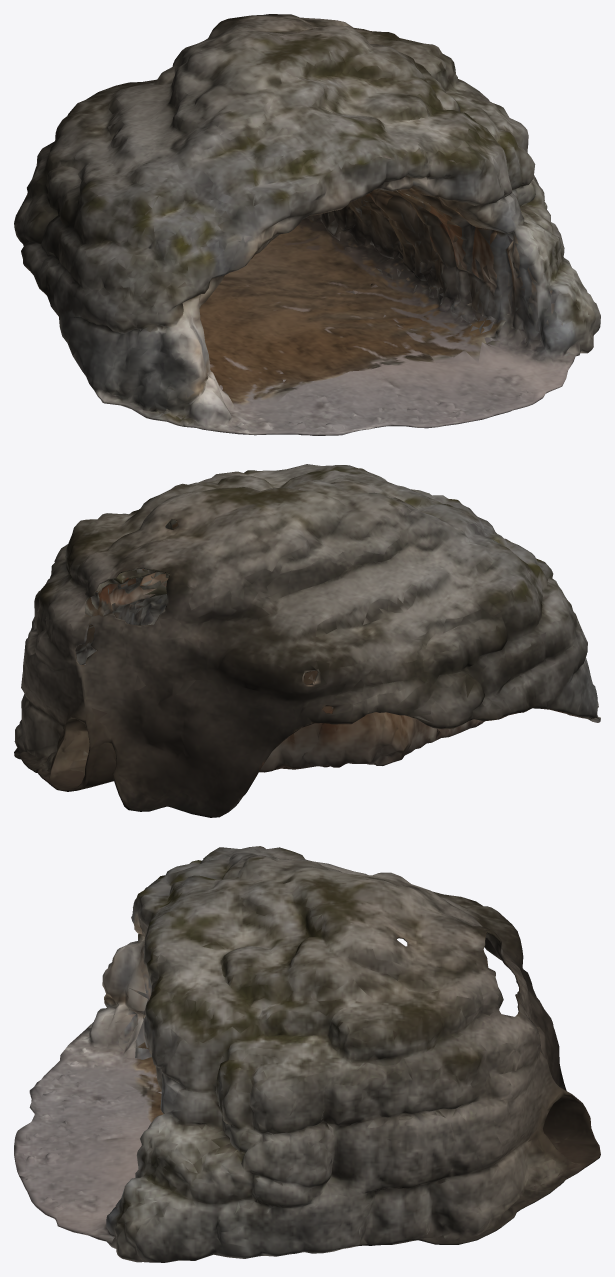
The picture shows the model from 3 angles, top to bottom: view 1: azimuth 30°, elevation 25°; view 2: azimuth 150°, elevation 25°; view 3: azimuth 270°, elevation 25°; orthographic projection. The views are drawn at different scales.
Parts seen in each view (by area): view 1: Mesh_0; view 2: Mesh_0; view 3: Mesh_0.
Boxes of the visible parts, x1,y1,x2,y2 form: Mesh_0: (14, 14, 600, 435); Mesh_0: (14, 464, 600, 817); Mesh_0: (14, 846, 600, 1262).
Bounding box in the file's own units: 18.01 × 9.42 × 18.31.
1 material, 1 textured.
